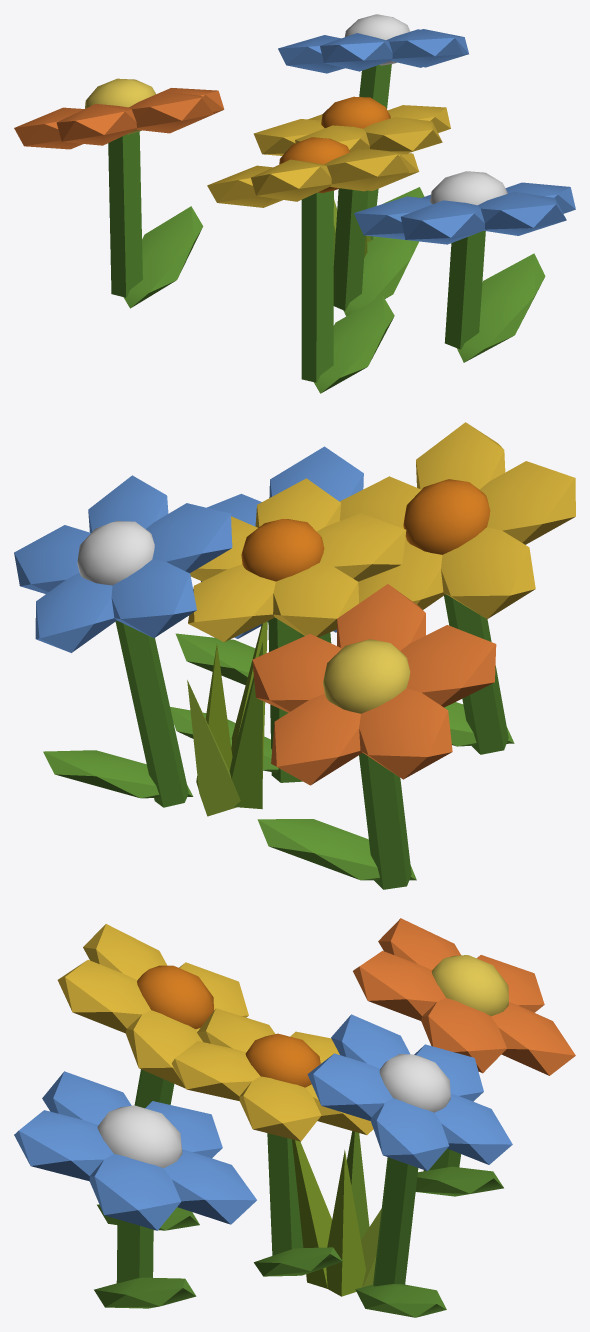
The model's file is p_flowers_3.glb.
The picture shows the model from 3 angles, top to bottom: view 1: azimuth 30°, elevation 25°; view 2: azimuth 150°, elevation 25°; view 3: azimuth 270°, elevation 25°; orthographic projection. The views are drawn at different scales.
Parts seen in each view (by area): view 1: body; view 2: body; view 3: body.
Part boxes in pixels (x1,y1,x2,y2): body: (14,14,575,393); body: (14,422,575,889); body: (14,918,575,1317).
Bounding box in the file's own units: 0.8792 × 0.508 × 0.9412.
